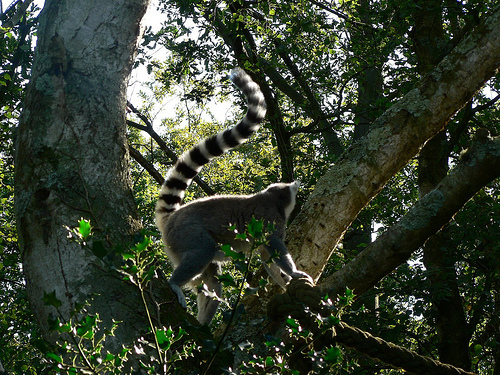cat: (151, 68, 318, 326)
